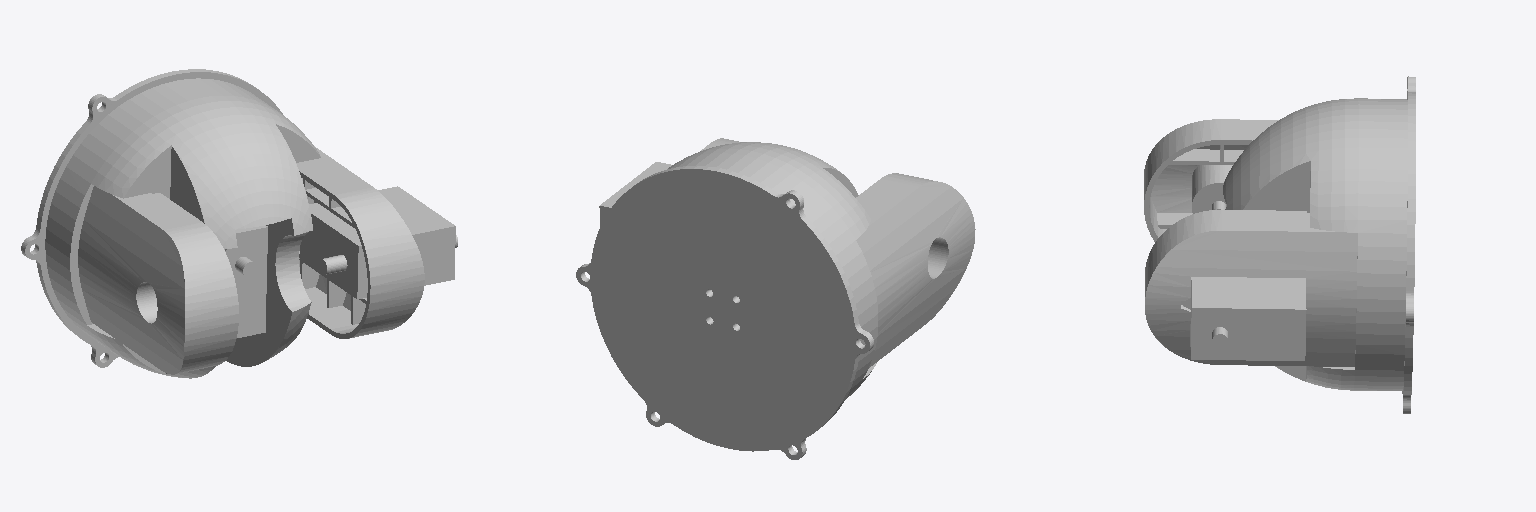
The model's file is baseCoordinateSystem.obj.
3 renders of one model, left to right at view 1: azimuth 30°, elevation 25°; view 2: azimuth 150°, elevation 25°; view 3: azimuth 270°, elevation 25°, orthographic.
Visible parts, largest first — view 1: Component30\Solid; view 2: Component30\Solid; view 3: Component30\Solid.
Part boxes in pixels (x1,y1,x2,y2): Component30\Solid: (21,69,457,378); Component30\Solid: (576,138,975,459); Component30\Solid: (1144,76,1415,413).
Size of the model in its own units: 142 by 112 by 99.74.